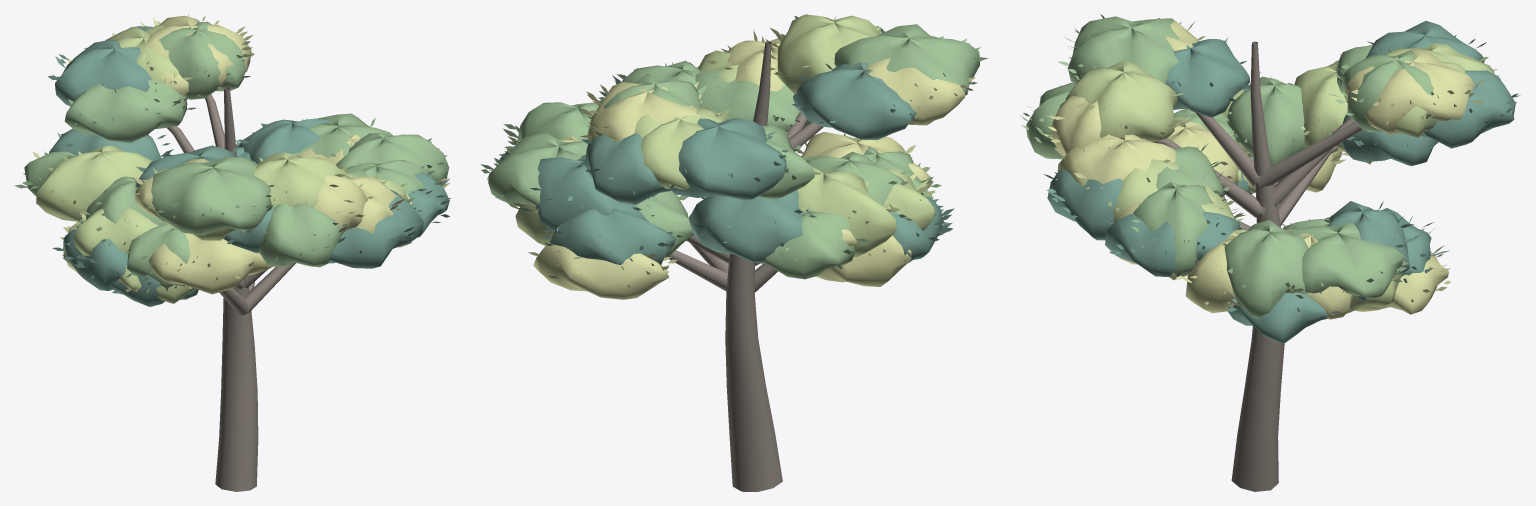
Rendered from oak_ancient.glb.
The picture shows the model from 3 angles, left to right: view 1: azimuth 30°, elevation 25°; view 2: azimuth 150°, elevation 25°; view 3: azimuth 270°, elevation 25°; orthographic projection. The views are drawn at different scales.
Parts seen in each view (by area): view 1: oak_ancient; view 2: oak_ancient; view 3: oak_ancient.
Part boxes in pixels (bbox=[...]): oak_ancient: bbox=[15, 14, 451, 491]; oak_ancient: bbox=[481, 14, 988, 491]; oak_ancient: bbox=[1019, 14, 1520, 491].
Bounding box in the file's own units: 7.31 × 7.22 × 7.55.
